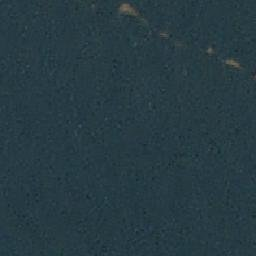debris: (116, 4, 143, 19), (220, 55, 243, 69), (156, 29, 172, 39), (204, 47, 217, 56)
